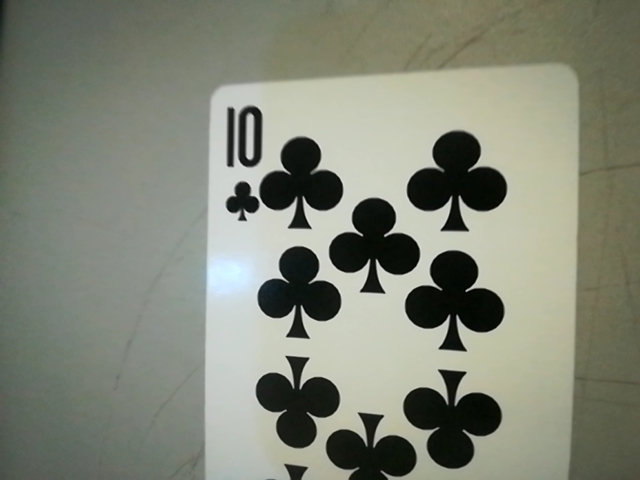mh 10: (208, 93, 268, 225)
